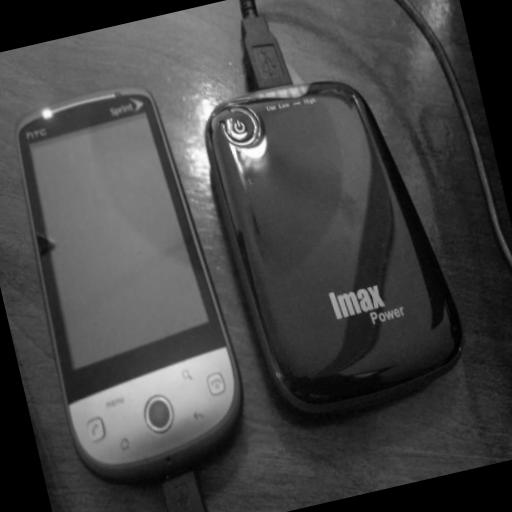phone: (19, 87, 242, 477)
